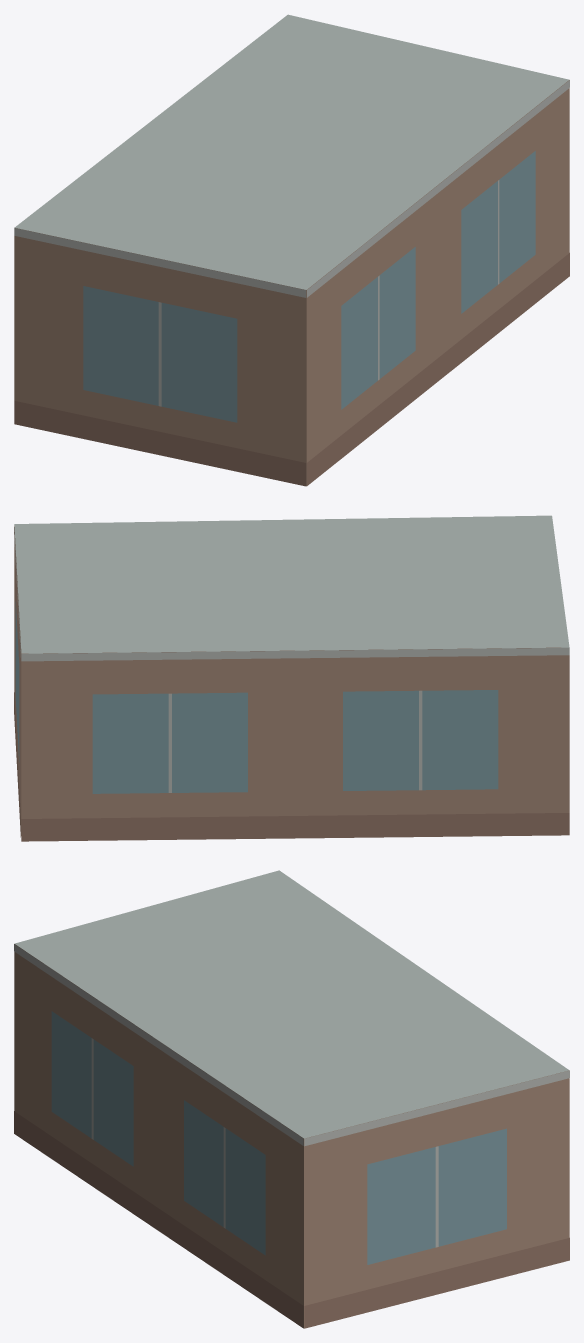
File: survey-upis-32777201.glb
The picture shows the model from 3 angles, top to bottom: view 1: azimuth 30°, elevation 25°; view 2: azimuth 150°, elevation 25°; view 3: azimuth 270°, elevation 25°; orthographic projection. The views are drawn at different scales.
Parts seen in each view (by area): view 1: survey-upis-32777201.tmp; view 2: survey-upis-32777201.tmp; view 3: survey-upis-32777201.tmp.
Part boxes in pixels (x1=…): survey-upis-32777201.tmp: x1=14, y1=14, x2=569, y2=486; survey-upis-32777201.tmp: x1=14, y1=515, x2=569, y2=841; survey-upis-32777201.tmp: x1=14, y1=870, x2=569, y2=1328.
Bounding box in the file's own units: 9.24 × 3.05 × 8.09.
